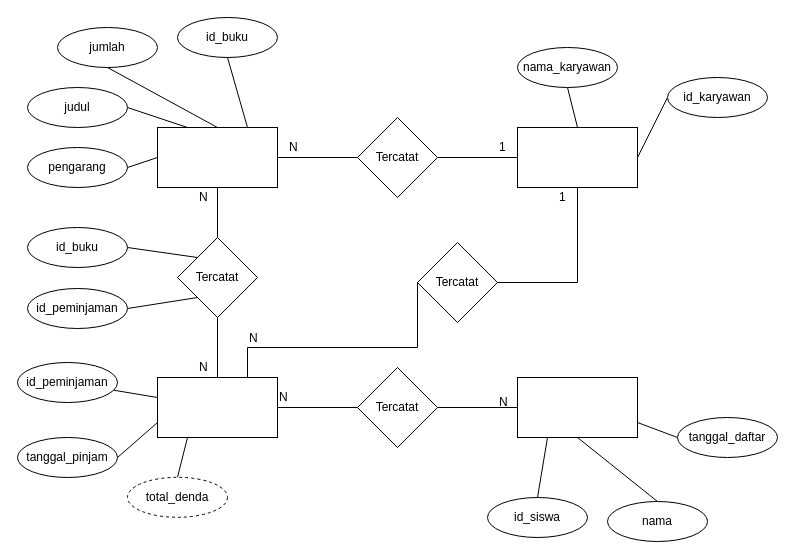
This 795x559 diagram has some shape labels left out. Each missing label, with the centre of its shape:
"Buku" belongs at pixel 217 157.
"Karyawan" belongs at pixel 577 157.
"Peminjaman" belongs at pixel 217 407.
"Siswa" belongs at pixel 577 407.
